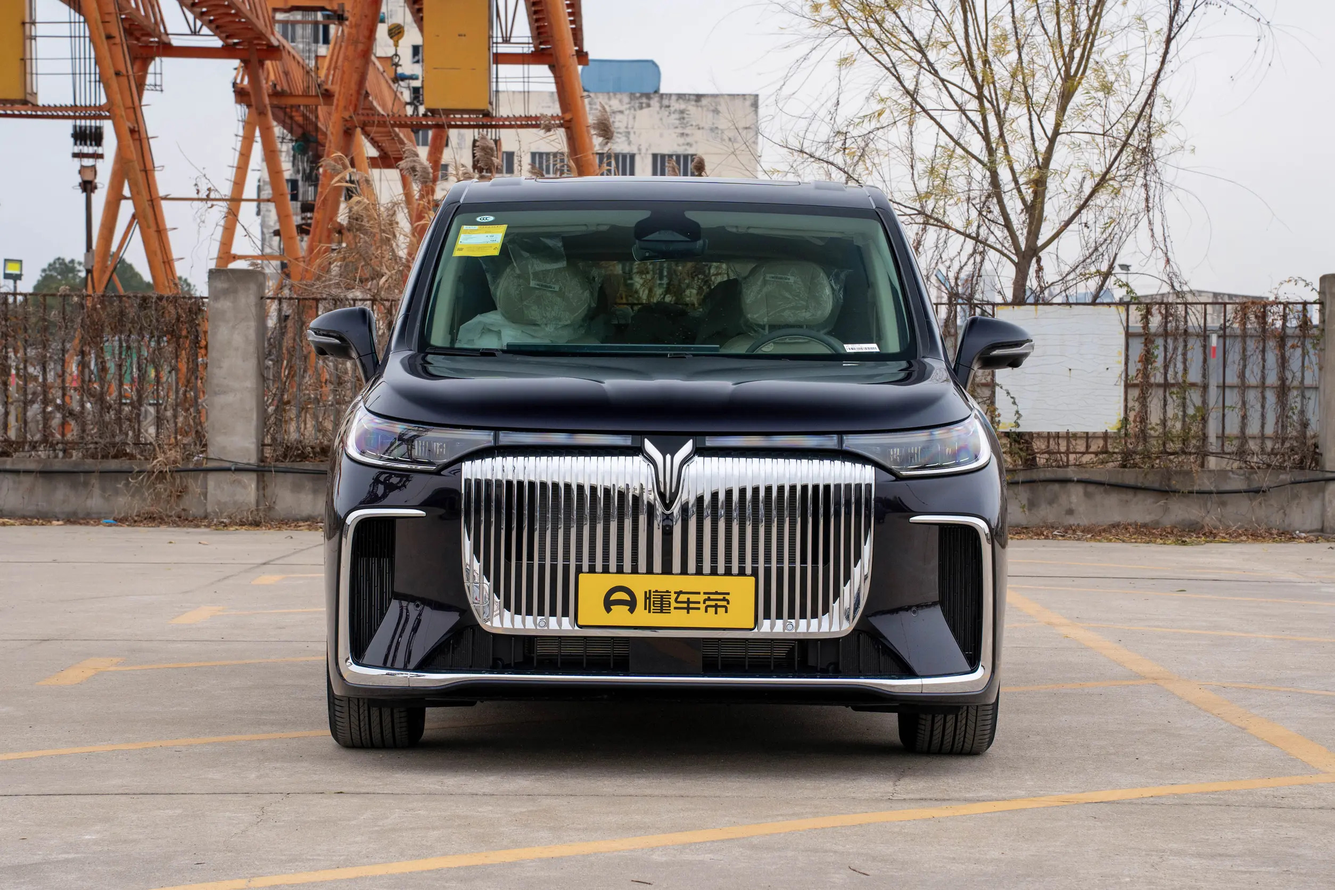VOYAH: (644, 439, 692, 503)
